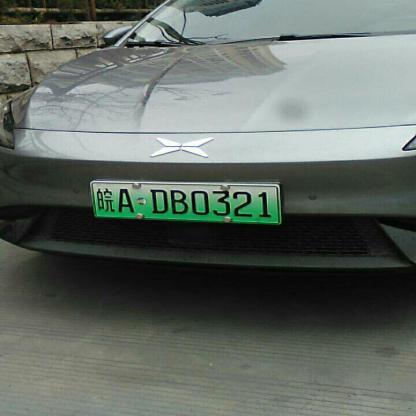lp: (90, 182, 280, 223)
